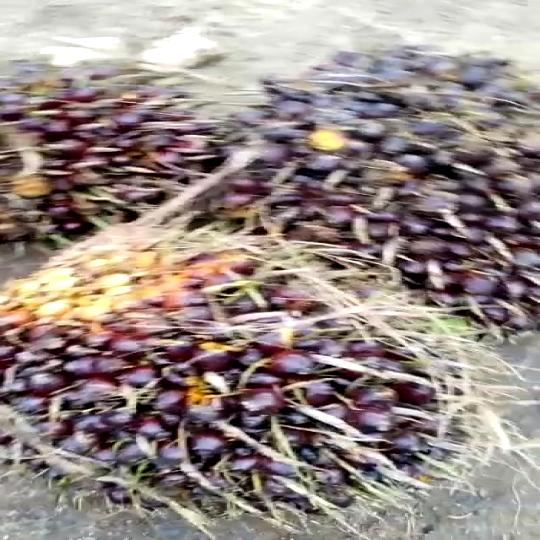kurang masak: (0, 239, 491, 520), (225, 31, 540, 310), (0, 53, 252, 252)
